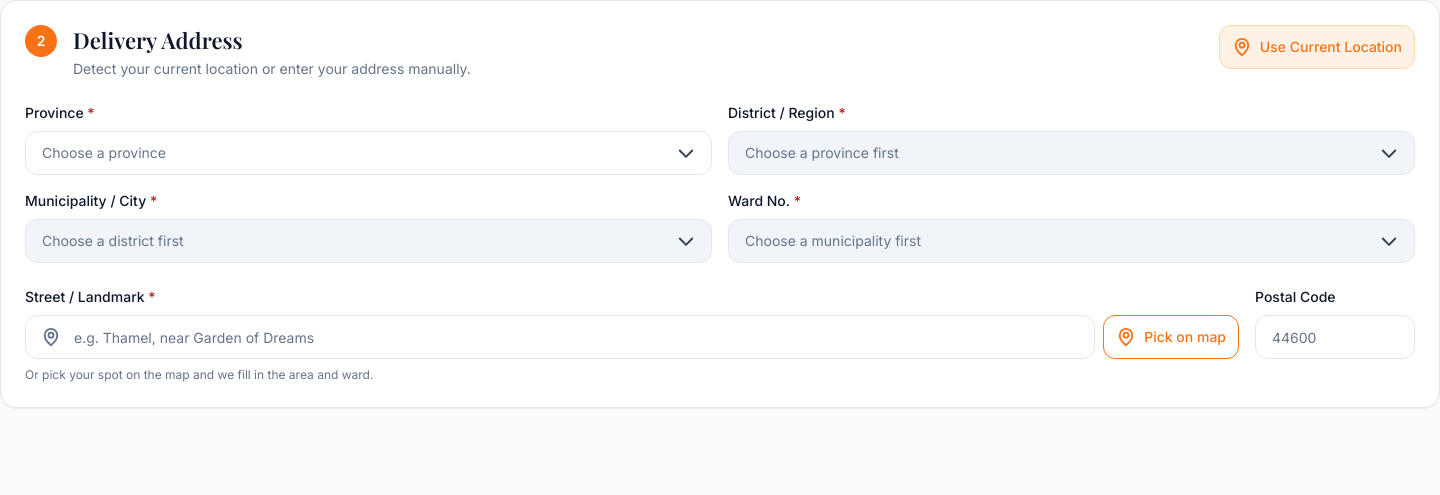
Test: AddressSection › treats denied location access as a normal message and keeps manual entry
The image size is (1440, 495).
Click the button "Use Current Location" at (1317, 47), box [1219, 25, 1415, 69]
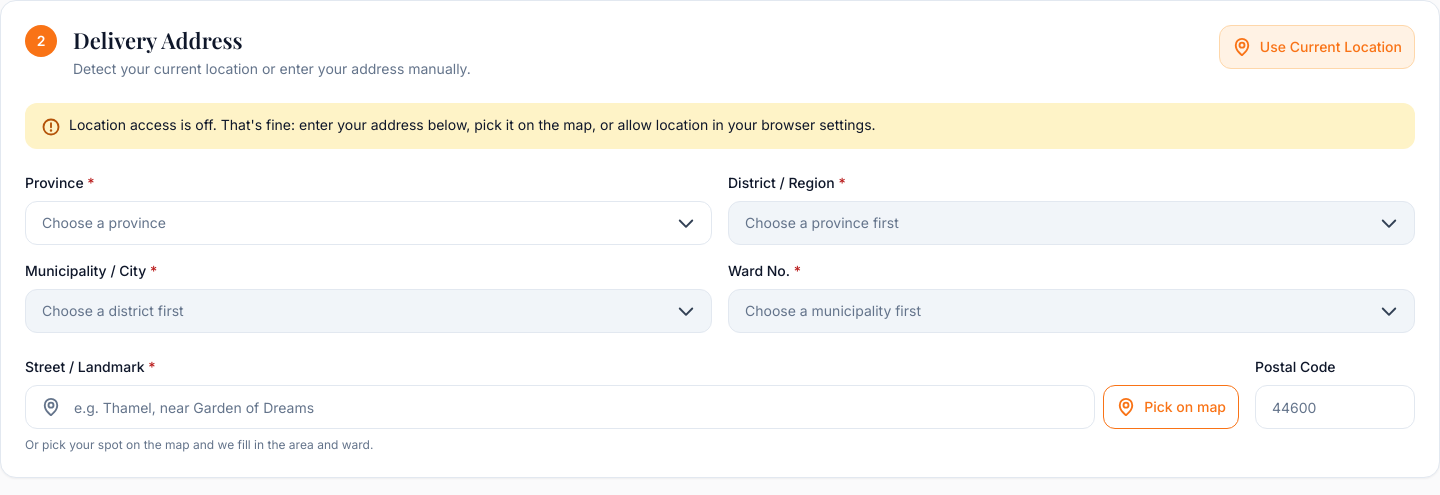
Expected: the dropdown labelled "Choose a province" is enabled, [25, 201, 712, 245]
Now the text "Location access is off" is shown, box [69, 116, 876, 133]
